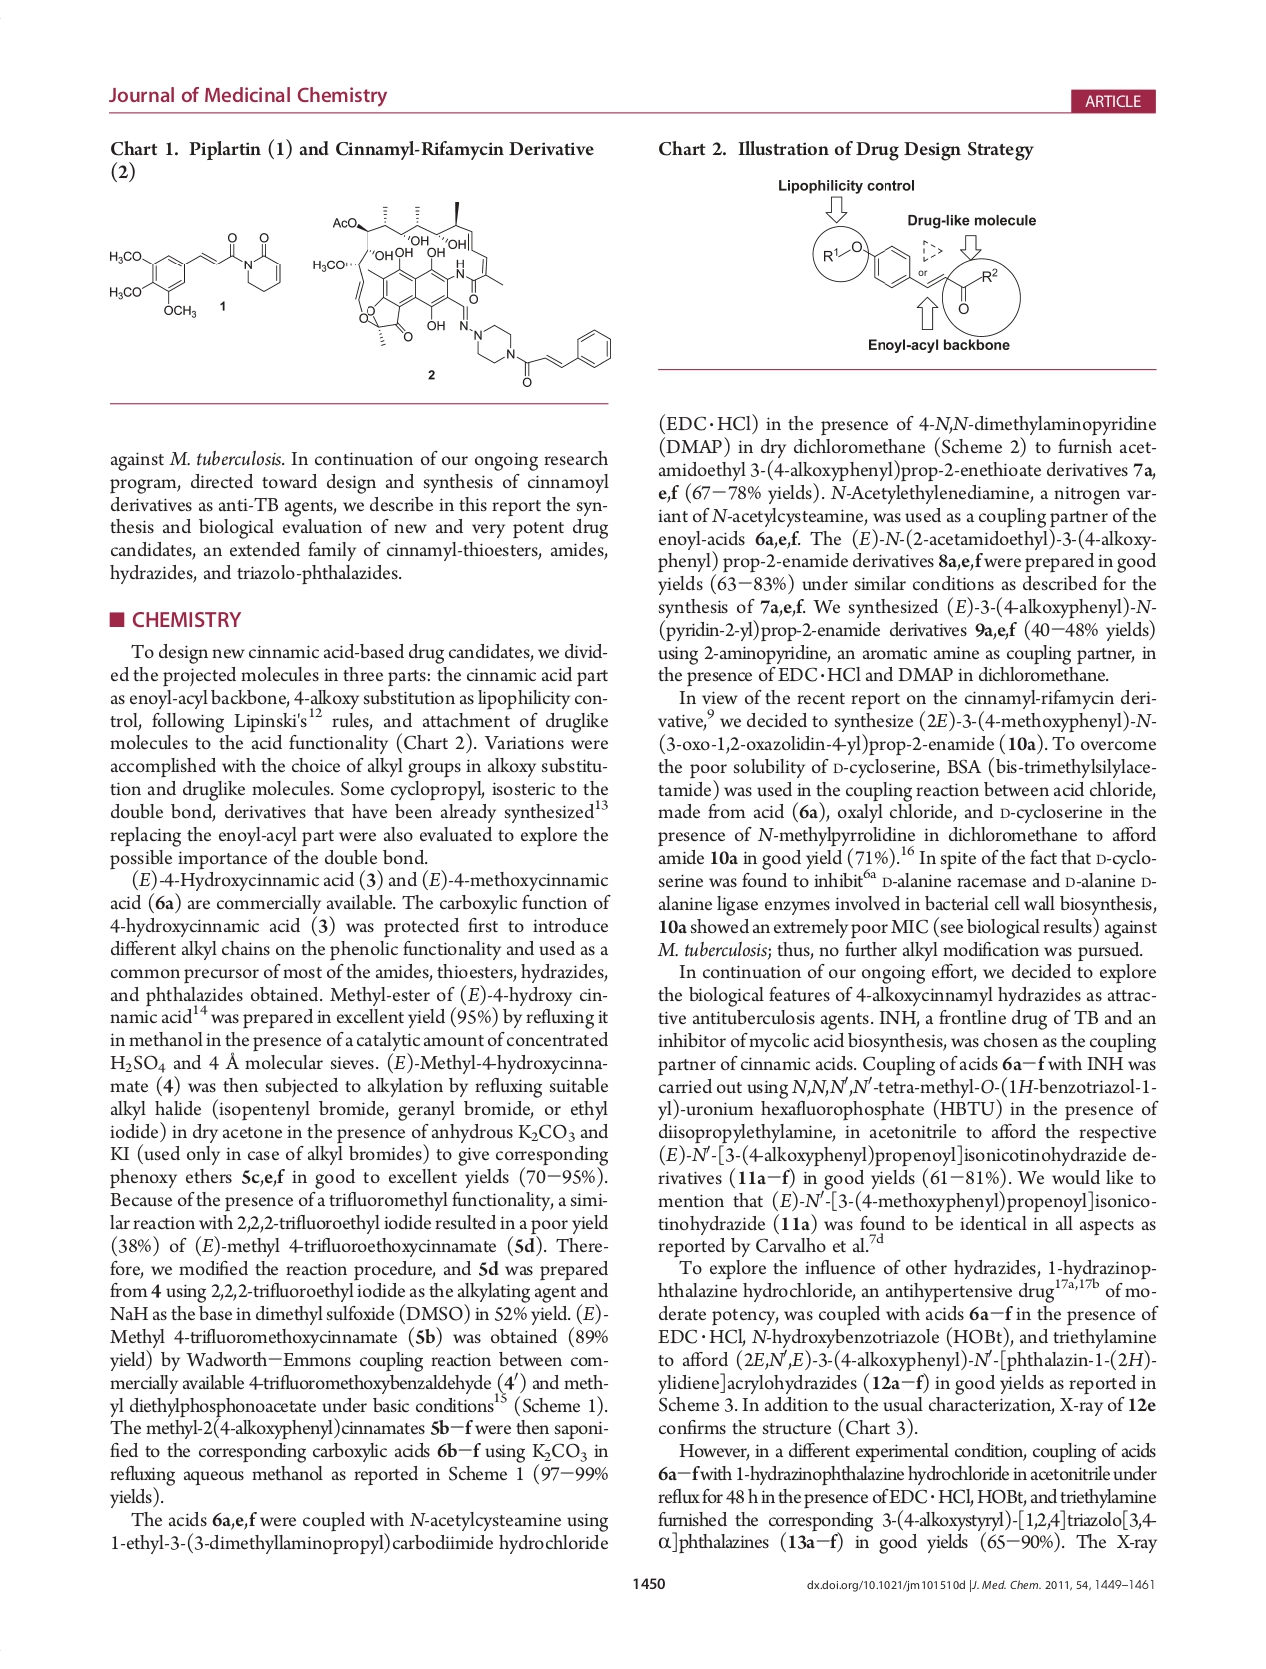exist_molecular: (309, 199, 616, 390), (101, 229, 285, 322), (819, 233, 997, 318)
